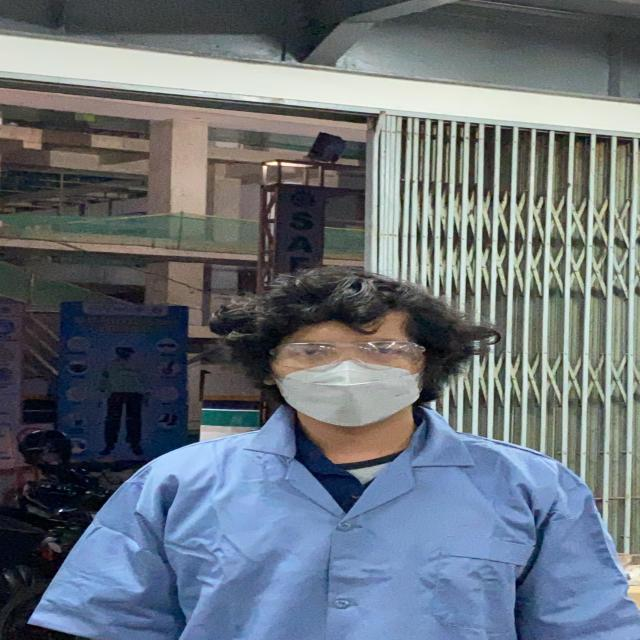glasses: (258, 336, 434, 372)
